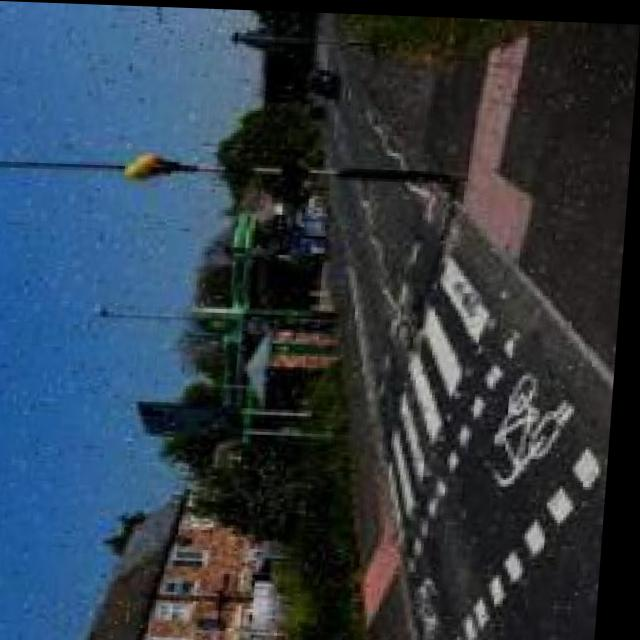zebra: (388, 243, 525, 542)
